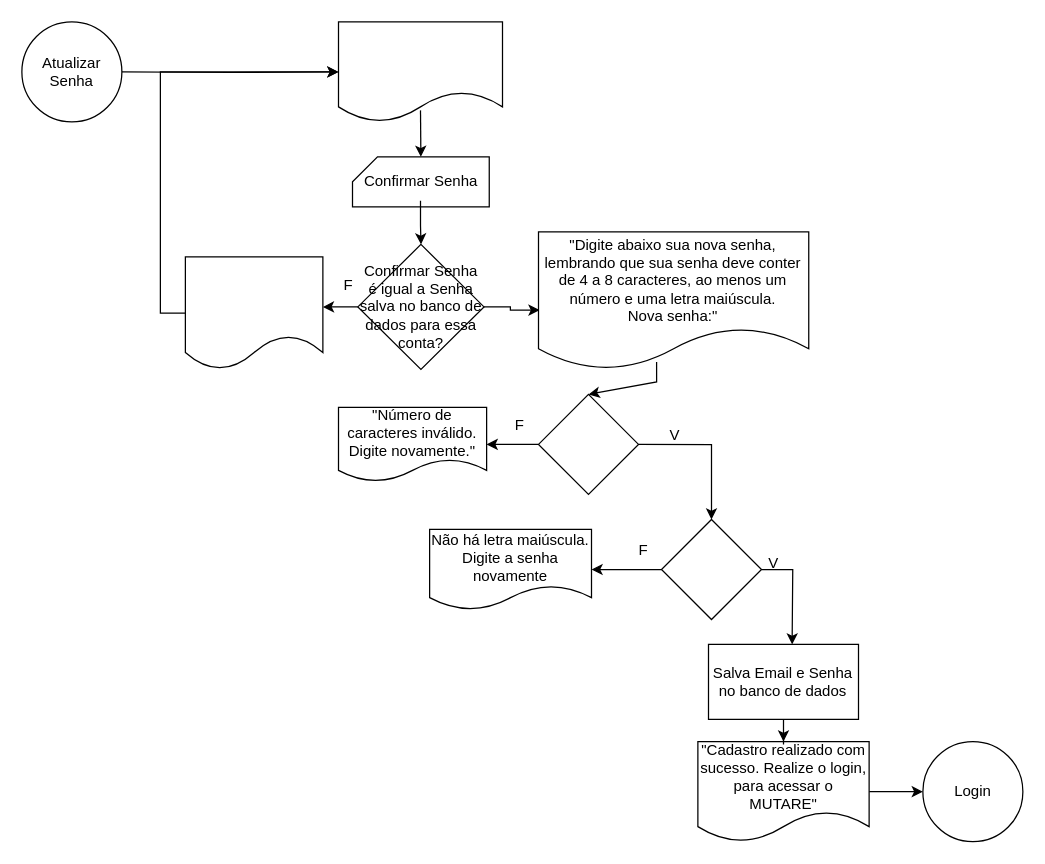
Image size: 1045x864. Some labels were removed from this diagram. Each missing label, with the centre of its shape:
"Confirme sua senha, antes de atualizá-la:": pixel 419 71
"Senha incorreta. Digite-a novamente.": pixel 253 312
Há de 4 a 8 caracterers e pelo menos um número na senha?: pixel 587 443
Há pelo menos uma letra maiúscula na senha?: pixel 711 569
